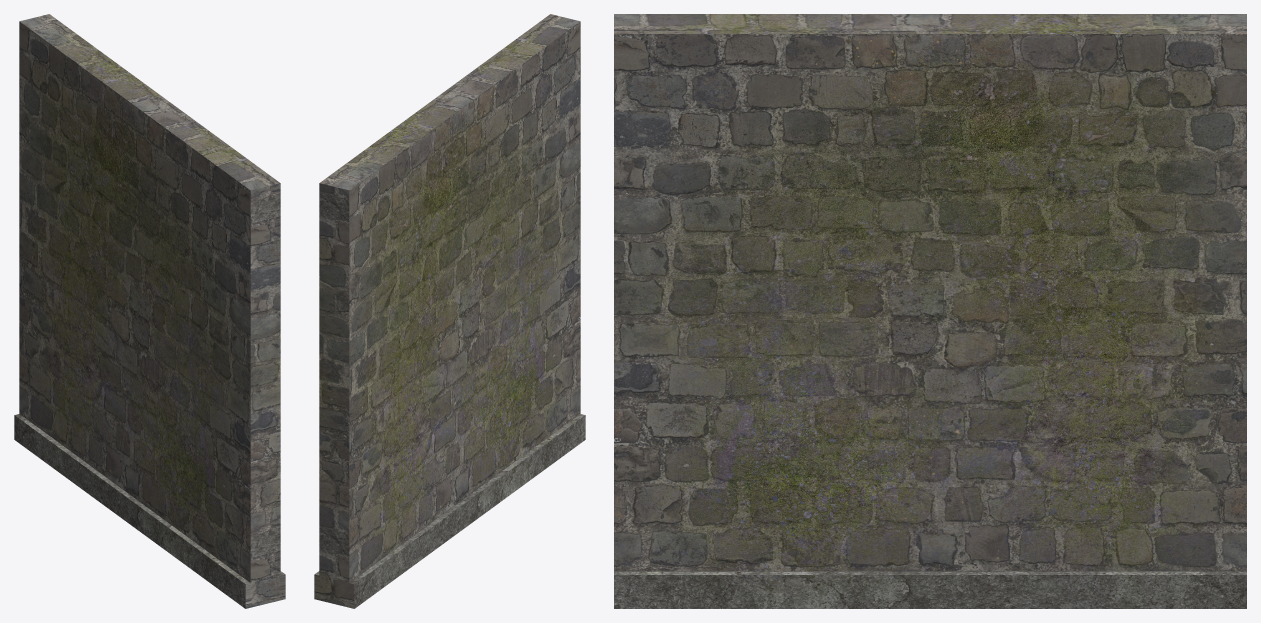
Rendered from Wall_Lvl2_4.fbx.
3 views of the same model, side by side, from view 1: azimuth 30°, elevation 25°; view 2: azimuth 150°, elevation 25°; view 3: azimuth 270°, elevation 25° (orthographic). The views are drawn at different scales.
Parts seen in each view (by area): view 1: wall.002; view 2: wall.002; view 3: wall.002.
Part boxes in pixels (x1,y1,x2,y2): wall.002: (14, 14, 285, 608); wall.002: (314, 14, 585, 608); wall.002: (614, 14, 1246, 608).
Size of the model in its own units: 40 by 399 by 400.
1 material, 1 textured.
